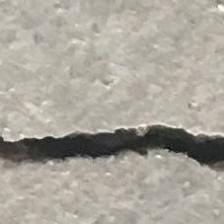Crack: (0, 111, 224, 196)
